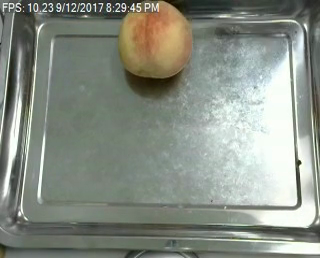Peach: (117, 0, 192, 79)
